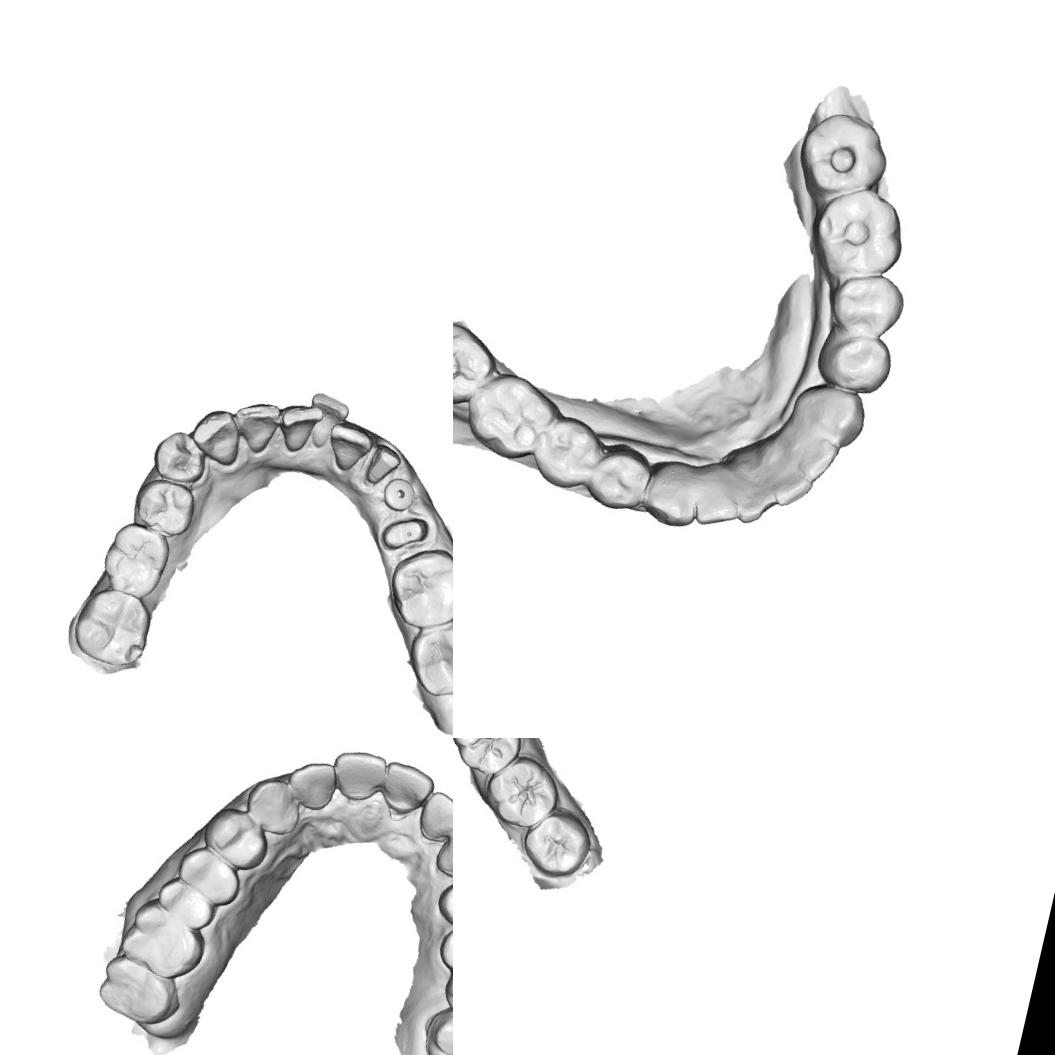canine: (786, 374, 872, 452), (197, 802, 275, 876), (640, 456, 709, 537), (184, 403, 249, 470), (432, 867, 453, 936)
crown: (376, 507, 432, 560), (362, 440, 405, 493)
implant: (379, 473, 420, 516)
incisor: (240, 772, 307, 838), (326, 744, 390, 806), (377, 758, 439, 820), (282, 754, 342, 814), (320, 414, 376, 478), (300, 388, 354, 454), (786, 427, 844, 488), (227, 395, 284, 457), (691, 480, 748, 538), (762, 460, 818, 516), (274, 398, 325, 459), (732, 477, 783, 531), (414, 787, 453, 846), (432, 823, 453, 884)
molar: (802, 178, 911, 293), (790, 104, 899, 208), (458, 364, 560, 468), (115, 892, 213, 986), (67, 582, 159, 673), (93, 950, 188, 1032), (478, 748, 566, 834), (95, 514, 177, 604), (381, 539, 453, 638), (518, 803, 598, 882), (395, 609, 453, 705), (453, 313, 502, 412), (453, 738, 529, 782), (414, 1003, 453, 1055)
premolar: (810, 324, 899, 400), (823, 267, 909, 344), (530, 412, 604, 494), (587, 443, 654, 518), (172, 842, 247, 909), (127, 475, 202, 540), (148, 424, 213, 489), (151, 874, 220, 934), (434, 916, 453, 983), (439, 960, 453, 1025)
